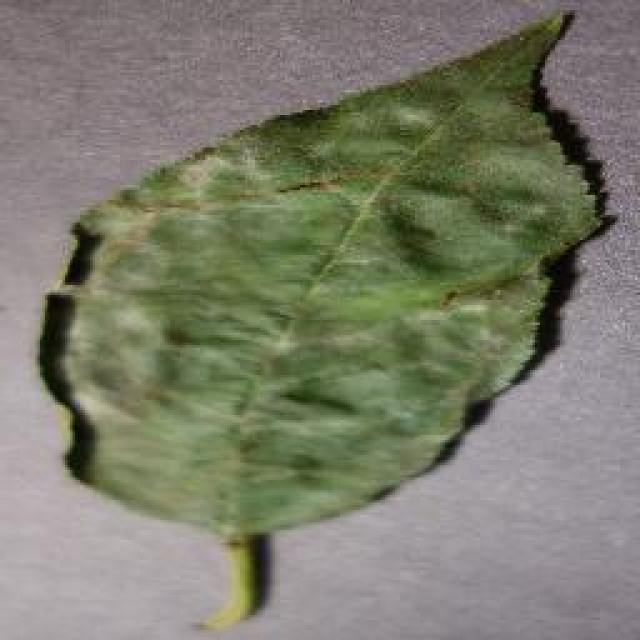Cherry___Powdery_mildew: (19, 7, 622, 640)
